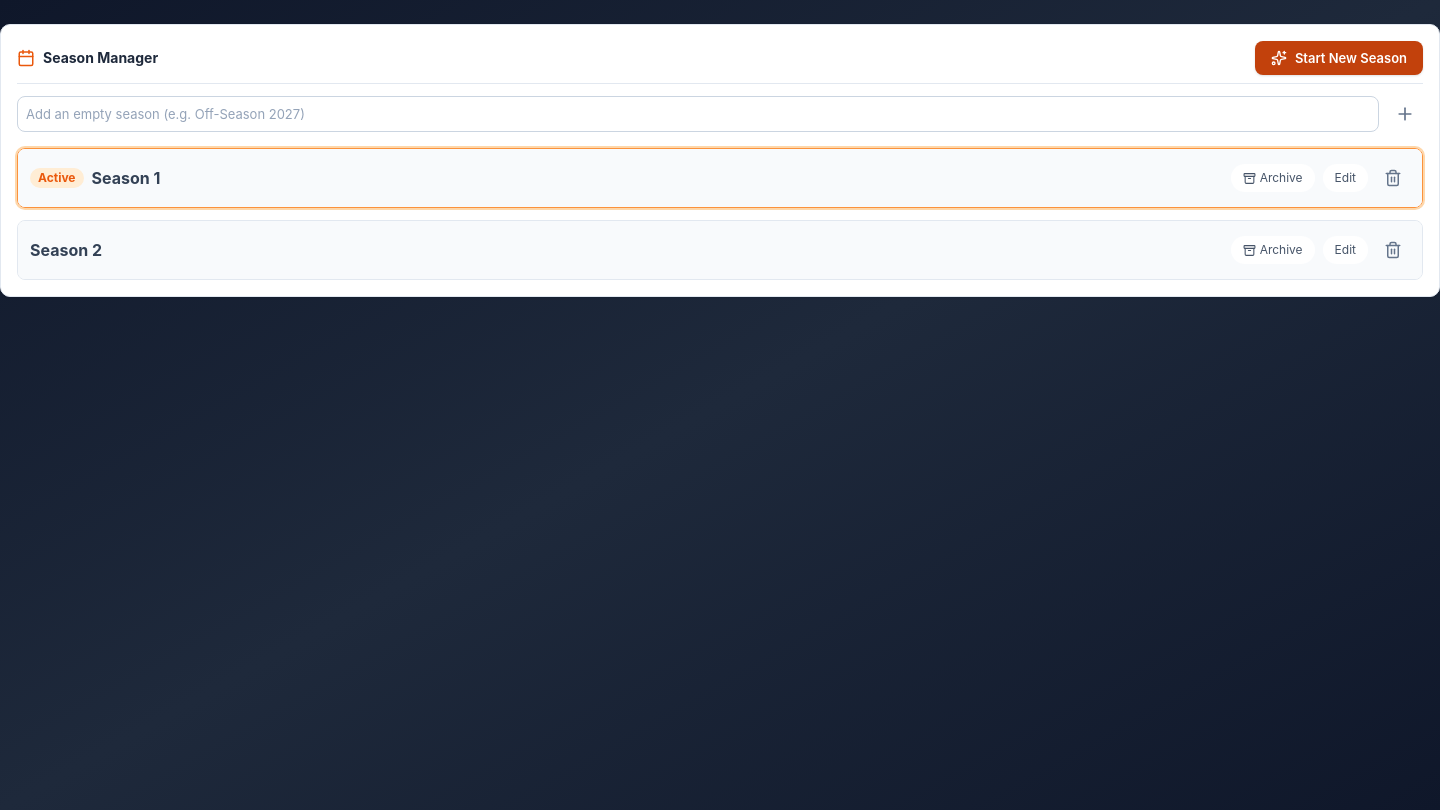
SeasonManager › Deleting a Season › points at archiving as the non-destructive alternative
Click the button with class "lucide-trash-2" at (1393, 250), box [1376,233,1410,267]
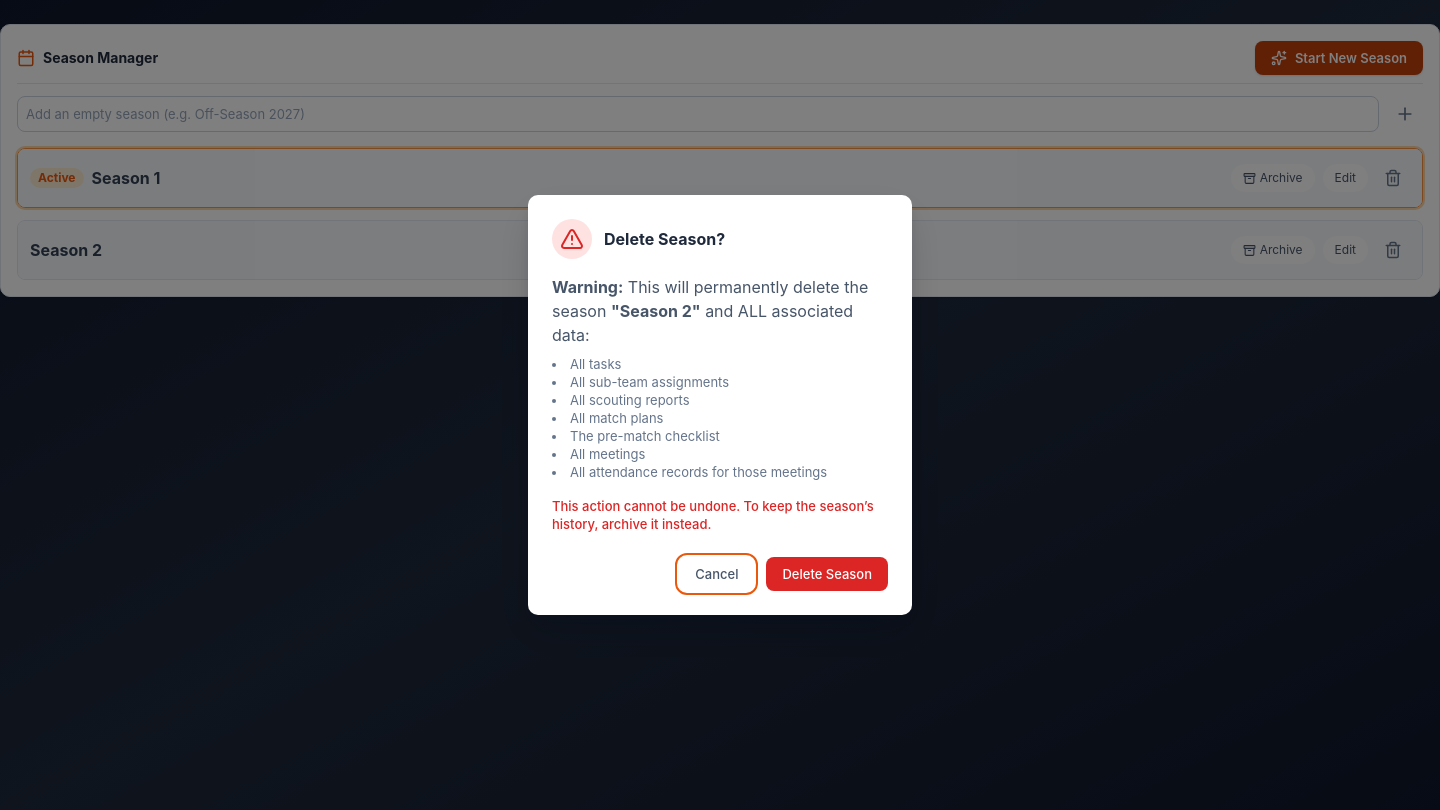
Result: the text "archive it instead" is shown at [552,498,874,532]
